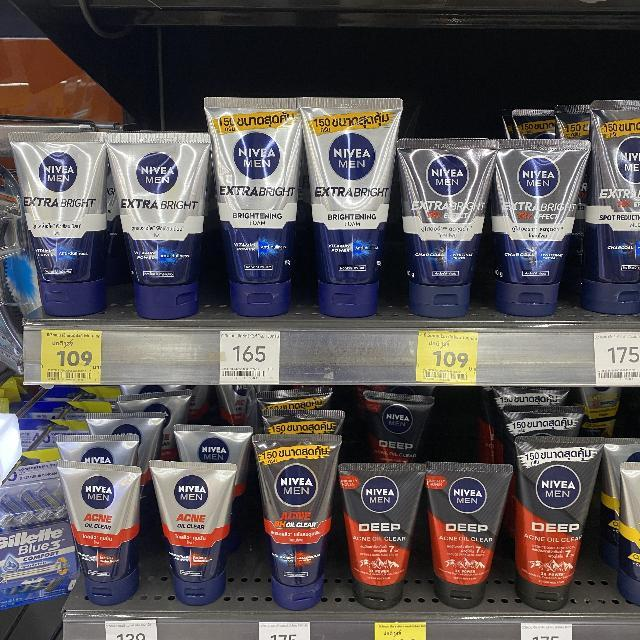Squeeze Tube: (8, 71, 640, 341), (53, 372, 613, 617)
